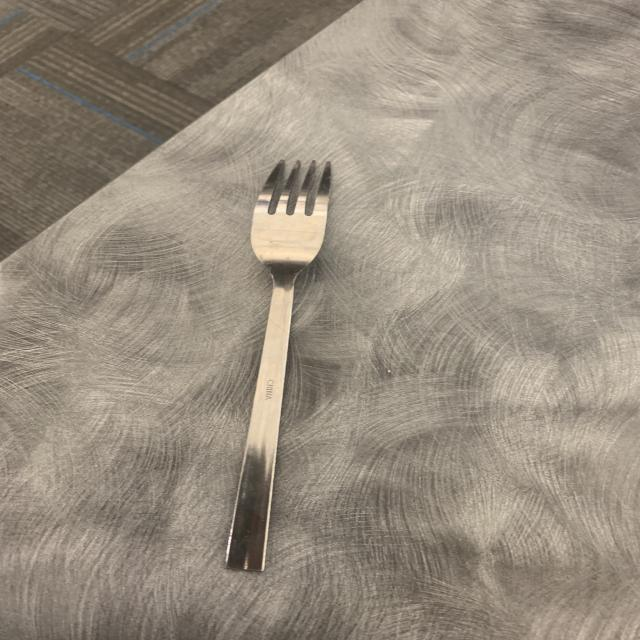fork: (227, 154, 356, 591)
